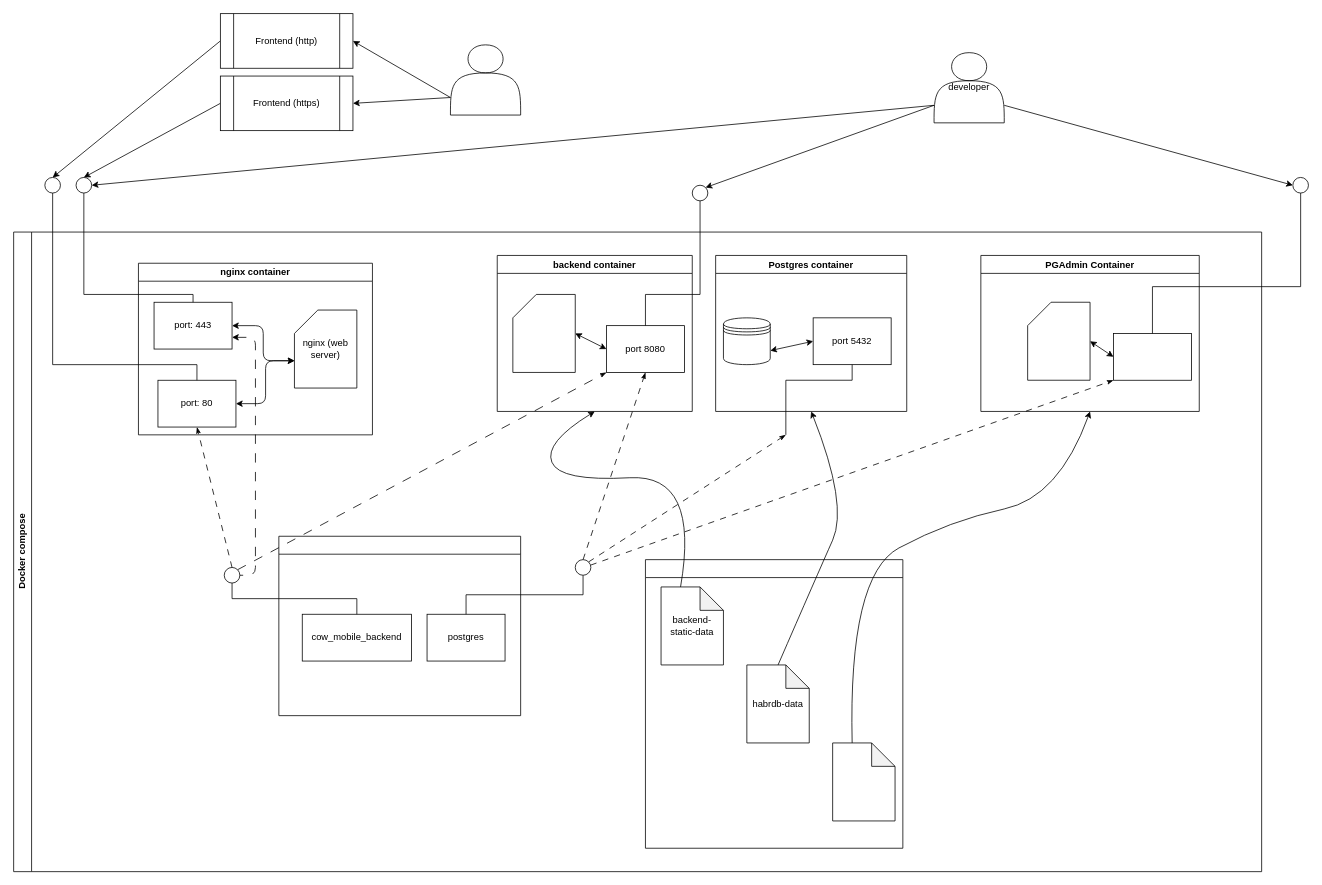
Some shapes in this 1322 by 885 pixel diagram are drawn without their labels. Here are the shapes that lost their labels. From the top down, the box of each, then its label:
(450, 44, 521, 115): user
(512, 294, 575, 372): backend (business logic)
(723, 317, 770, 365): database
(1027, 301, 1090, 380): pgadmin (server)
(1113, 333, 1191, 380): port 5050
(278, 535, 521, 716): Networks
(645, 559, 903, 848): Volumes
(832, 742, 895, 821): pgadmin-data
